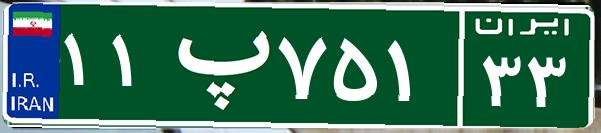1: (385, 28, 445, 110), (57, 26, 110, 107), (110, 28, 158, 105)
3: (475, 38, 525, 113), (525, 38, 570, 115)
5: (330, 28, 385, 110)
7: (273, 28, 330, 110)
پ: (158, 15, 273, 115)
